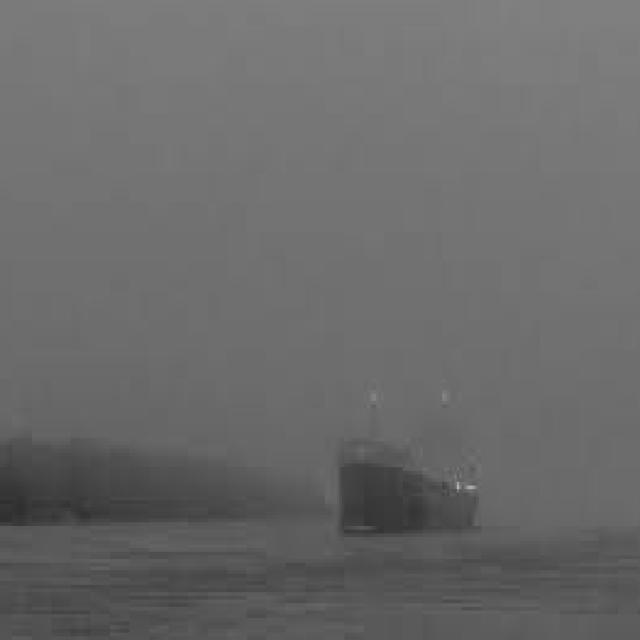cargoship: (334, 399, 486, 535)
